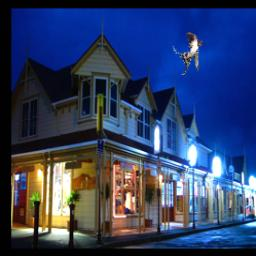Swallow: (174, 32, 204, 75)
